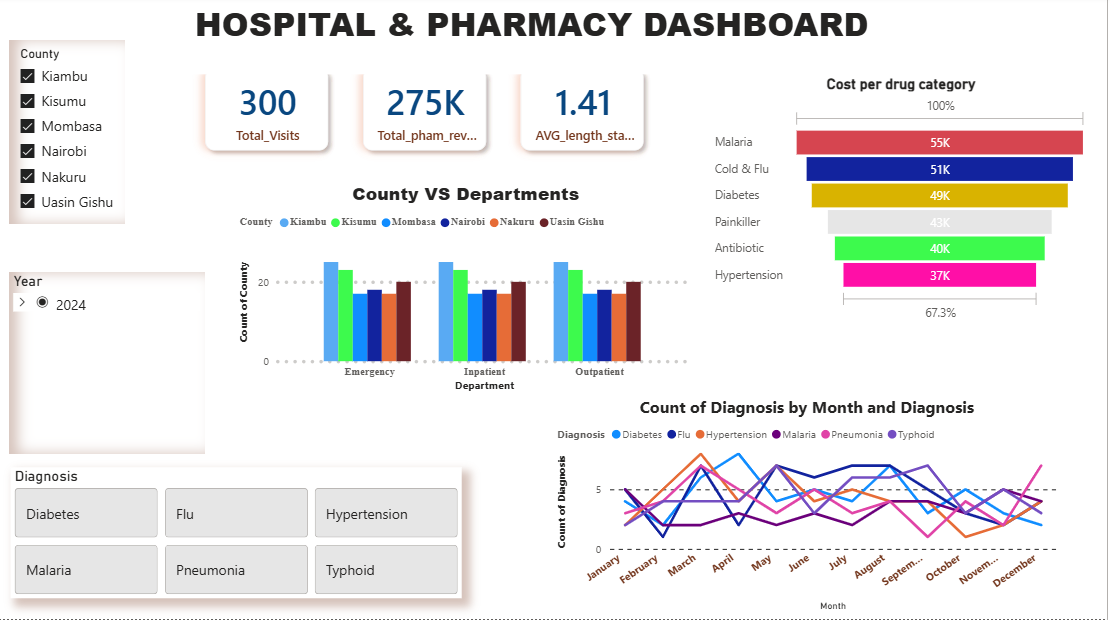

Layout of this report page (visuals, bound fields, positions):
{"tool":"powerbi","page":{"name":"Dashboard","canvas":[1280,720],"ordinal":3},"visuals":[{"type":"cardVisual","fields":{"Data":["Visits.Total_Visits","Pharmacy_Transactions.Total_pham_revenue","Visits.AVG_length_staydays"]},"box":[205.9,51,572.1,161.9],"z":0},{"type":"textbox","box":[188.7,0,854.3,90.8],"z":1000},{"type":"funnel","title":"Cost per drug category","fields":{"Y":["Sum(Pharmacy_Transactions.Total_Cost)"],"Category":["Pharmacy_Transactions.Drug_Category"]},"box":[822,91.5,440.1,290.4],"z":2000},{"type":"lineChart","fields":{"Y":["CountNonNull(Visits.Diagnosis)"],"Series":["Visits.Diagnosis"],"Category":["Visits.Visit_Date.Variation.Date Hierarchy.Month"]},"box":[640.7,461.2,586.1,253.5],"z":3000},{"type":"advancedSlicerVisual","fields":{"Values":["Visits.Diagnosis"]},"box":[14.1,543.9,521,151.4],"z":4000},{"type":"clusteredColumnChart","title":"County VS Departments","fields":{"Series":["Patients.County"],"Category":["Visits.Department"],"Y":["CountNonNull(Patients.County)"]},"box":[274.6,213,531.6,248.2],"z":5000},{"type":"slicer","fields":{"Values":["Patients.County"]},"box":[12.3,51,133.8,213],"z":6000},{"type":"listSlicer","fields":{"Values":["Visits.Visit_Date.Variation.Date Hierarchy.Year","Visits.Visit_Date.Variation.Date Hierarchy.Month","Visits.Visit_Date.Variation.Date Hierarchy.Day"]},"box":[12.3,318.6,225.3,209.5],"z":7000}]}

Visuals, with their boxes in screenshot pixels (x1, y1, x2, y2), scaled from the page's 1280x720 canvas onto the 1110x620 screenshot:
cardVisual - Visits.Total_Visits x Pharmacy_Transactions.Total_pham_revenue: 179, 44, 675, 183
textbox: 164, 0, 904, 78
"Cost per drug category" funnel: 713, 79, 1094, 329
lineChart - CountNonNull(Visits.Diagnosis) x Visits.Diagnosis: 556, 397, 1064, 615
advancedSlicerVisual - Visits.Diagnosis: 12, 468, 464, 599
"County VS Departments" clusteredColumnChart: 238, 183, 699, 397
slicer - Patients.County: 11, 44, 127, 227
listSlicer - Visits.Visit_Date.Variation.Date Hierarchy.Year x Visits.Visit_Date.Variation.Date Hierarchy.Month: 11, 274, 206, 455
